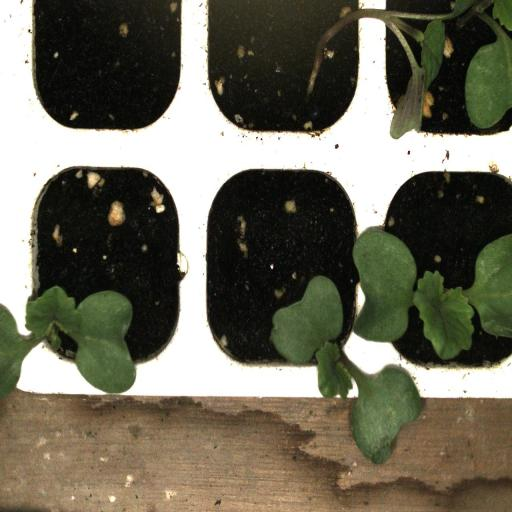askew: (194, 0, 372, 150)
seedling: (11, 148, 196, 392), (197, 150, 373, 395), (374, 149, 512, 394)
